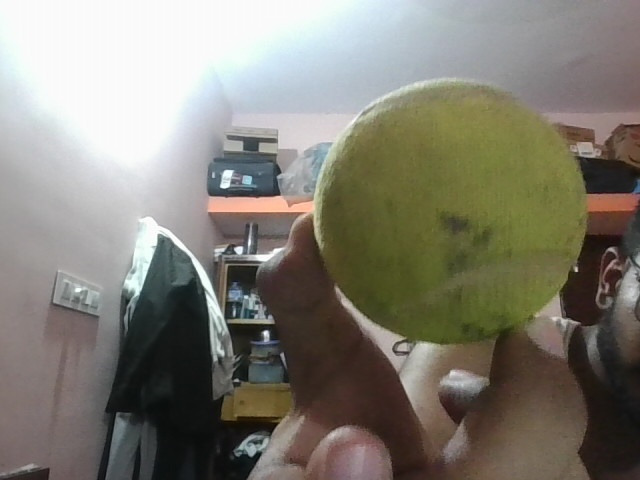greenball: (315, 78, 588, 343)
